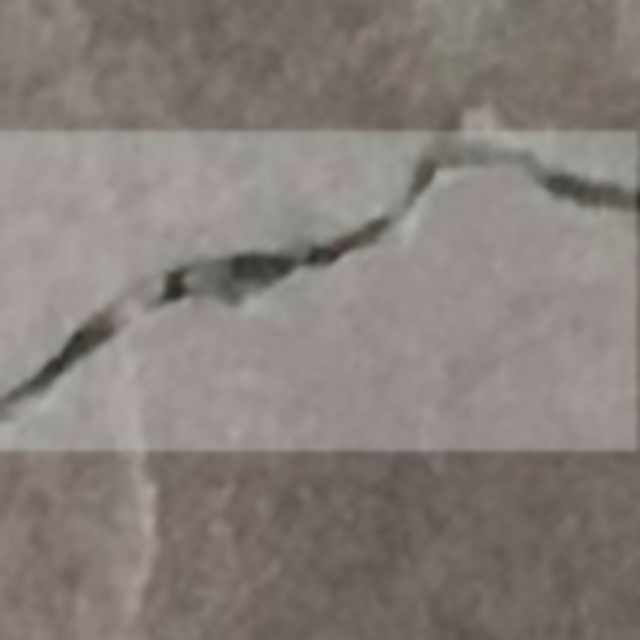SurfaceCrack: (14, 116, 640, 448)
